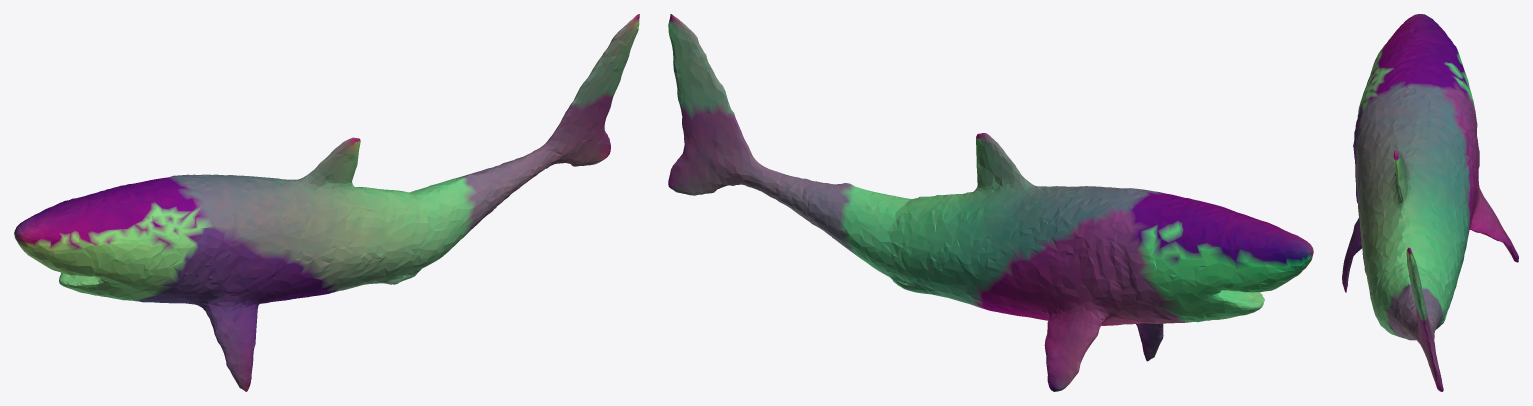
File: shark-8.off.obj
The picture shows the model from 3 angles, left to right: view 1: azimuth 30°, elevation 25°; view 2: azimuth 150°, elevation 25°; view 3: azimuth 270°, elevation 25°; orthographic projection. The views are drawn at different scales.
Size of the model in its own units: 1.45 by 0.5614 by 0.3546.
